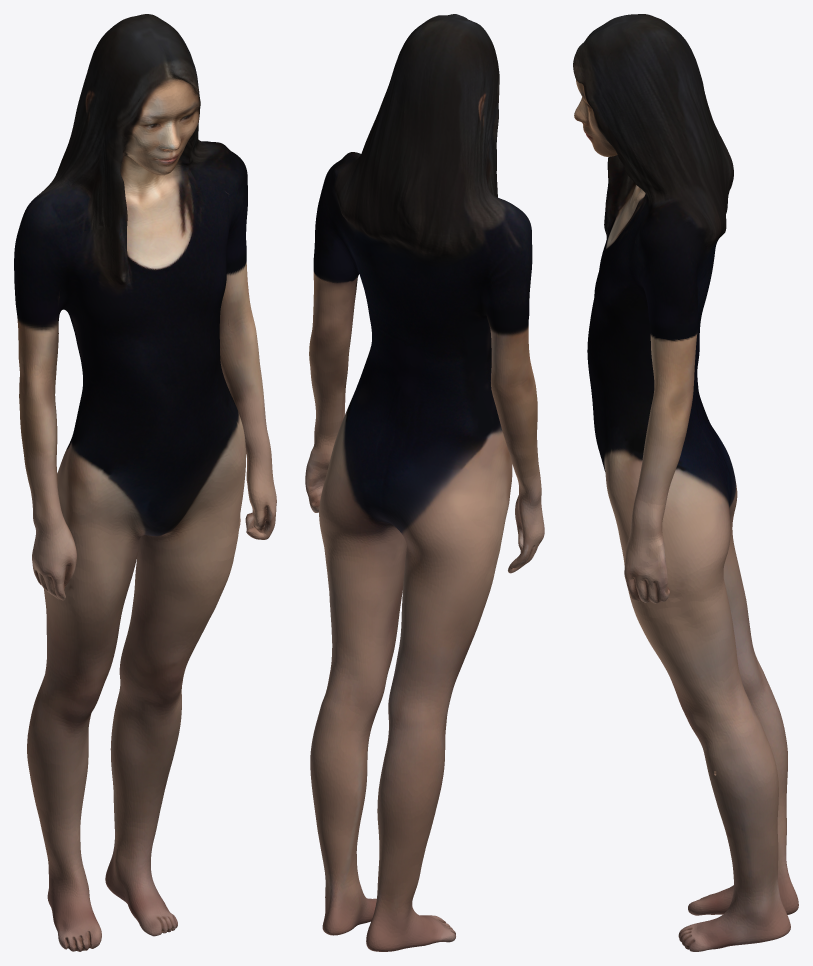
Rendered from yulu.obj.
3 views of the same model, side by side, from view 1: azimuth 30°, elevation 25°; view 2: azimuth 150°, elevation 25°; view 3: azimuth 270°, elevation 25° (orthographic). The views are drawn at different scales.
Visible parts, largest first — view 1: Group56049; view 2: Group56049; view 3: Group56049.
Boxes of the visible parts, left/top/right/bottom form: Group56049: left=14, top=14, right=276, bottom=951; Group56049: left=305, top=14, right=544, bottom=951; Group56049: left=573, top=14, right=798, bottom=951.
Size of the model in its own units: 47.62 by 176 by 39.61.
1 material, 1 textured.
